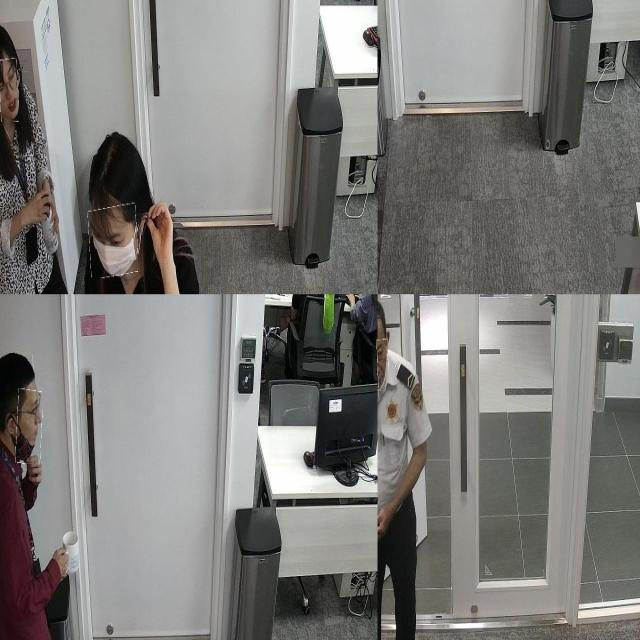hairnet: (15, 390, 42, 464), (377, 340, 389, 398)
